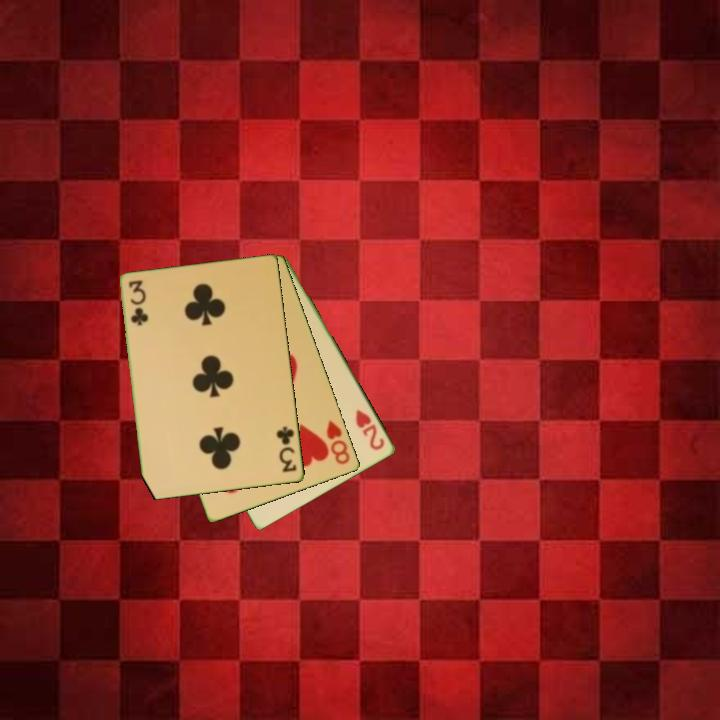2h: (352, 406, 388, 453)
3c: (273, 423, 300, 476), (125, 277, 149, 329)
8h: (323, 417, 353, 468)
